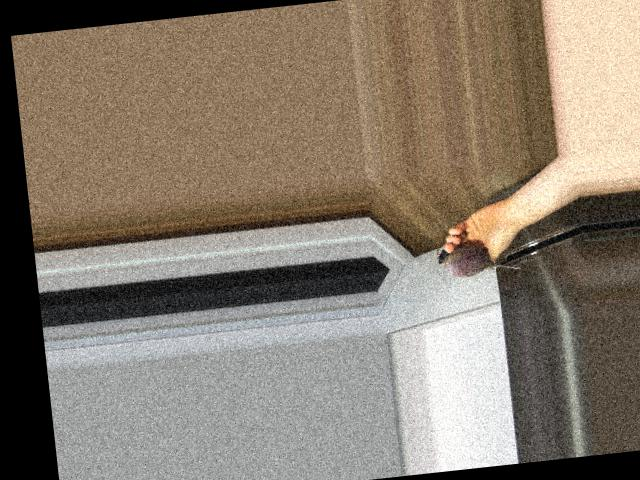beet: (435, 238, 519, 279)
